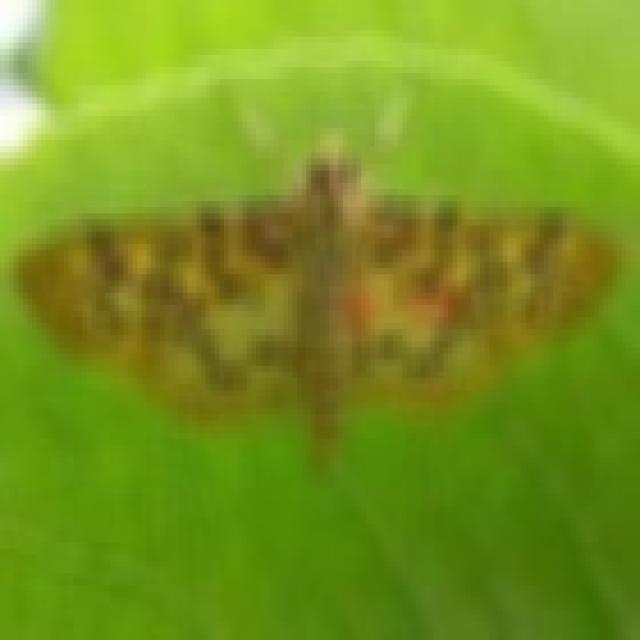peach borer: (13, 117, 621, 482)
